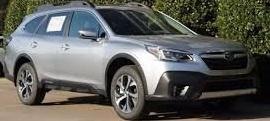SUV: (1, 4, 256, 120), (5, 5, 255, 120)
